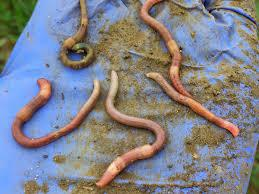insect: (94, 68, 170, 189), (141, 69, 242, 140), (11, 75, 102, 151), (139, 0, 199, 101), (56, 0, 96, 72)
